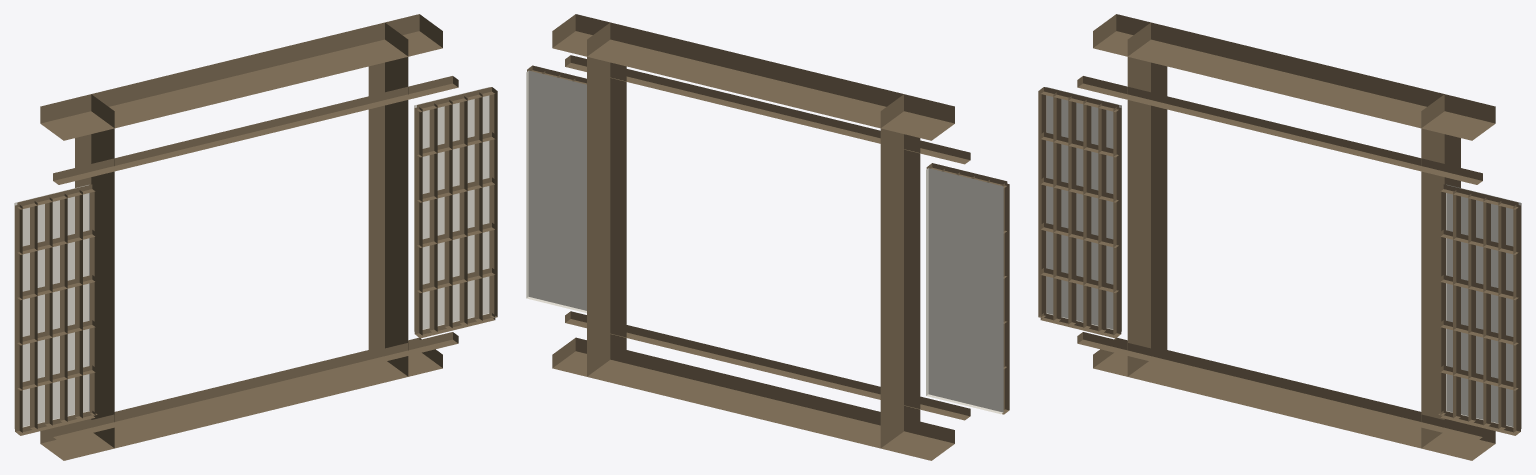
The model's file is japan_shoji_entry.glb.
3 renders of one model, left to right at view 1: azimuth 30°, elevation 25°; view 2: azimuth 150°, elevation 25°; view 3: azimuth 330°, elevation 25°, orthographic.
Parts seen in each view (by area): view 1: japan_shoji_entry; view 2: japan_shoji_entry; view 3: japan_shoji_entry.
Part boxes in pixels (left/top/right/bottom): japan_shoji_entry: left=14, top=14, right=497, bottom=460; japan_shoji_entry: left=526, top=14, right=1009, bottom=460; japan_shoji_entry: left=1038, top=14, right=1521, bottom=460.
Bounding box in the file's own units: 5.88 × 3.95 × 0.61.
